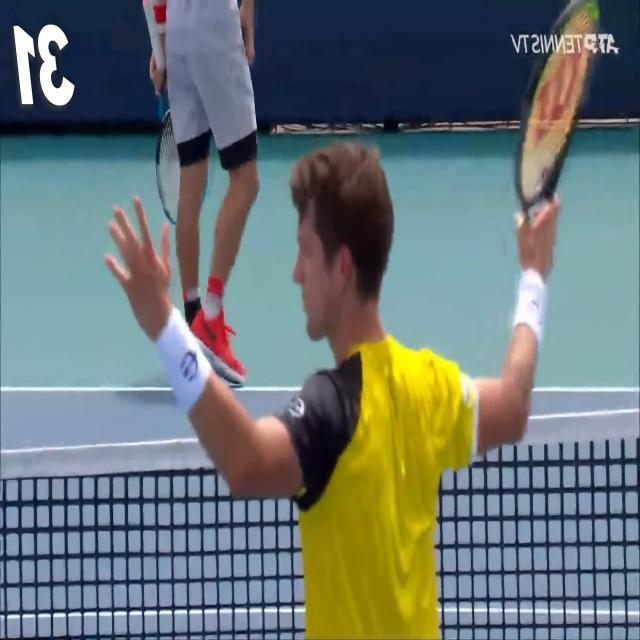player: (103, 0, 602, 640)
